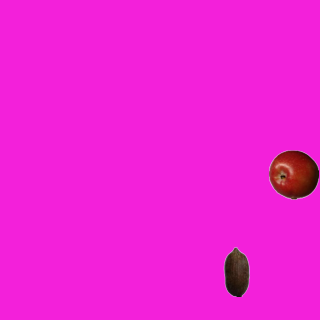Apple Braeburn: (268, 149, 318, 199)
Nut Pecan: (211, 246, 261, 296)
